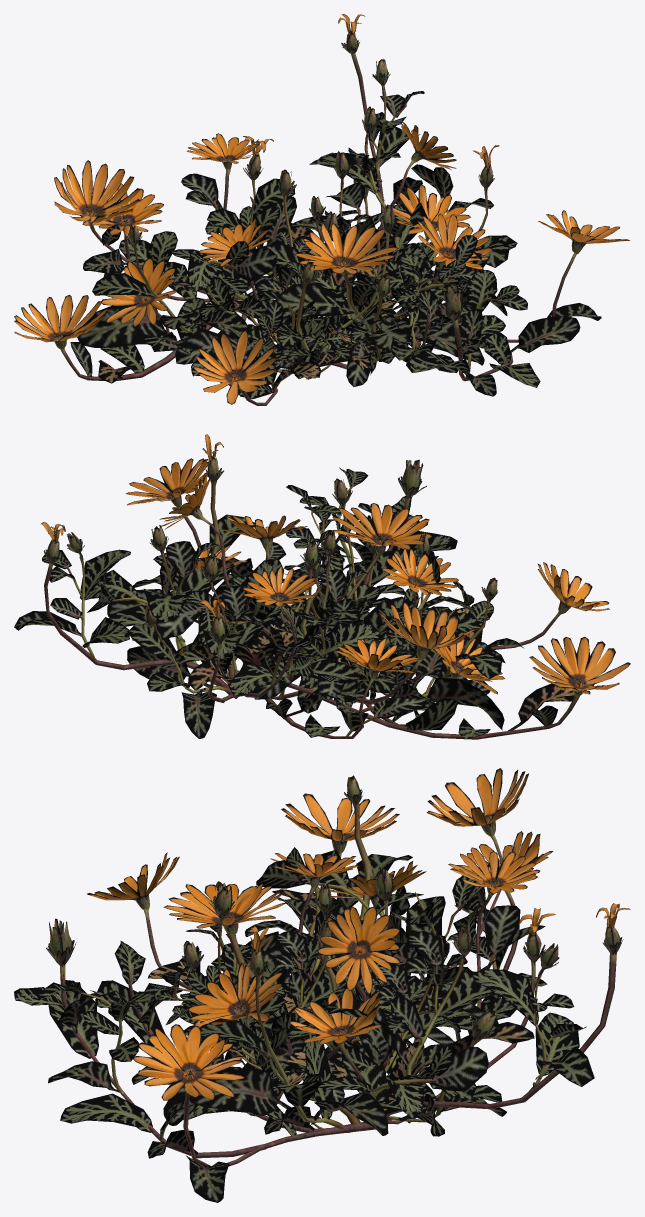
The model's file is flower_ursinia.glb.
3 views of the same model, one above another, from view 1: azimuth 30°, elevation 25°; view 2: azimuth 150°, elevation 25°; view 3: azimuth 270°, elevation 25° (orthographic). The views are drawn at different scales.
Visible parts, largest first — view 1: flower_ursinia_a_LOD0, flower_ursinia_b_LOD0, flower_ursinia_c_LOD0, flower_ursinia_d_LOD0, flower_ursinia_e_LOD0; view 2: flower_ursinia_a_LOD0, flower_ursinia_b_LOD0, flower_ursinia_c_LOD0, flower_ursinia_d_LOD0, flower_ursinia_e_LOD0; view 3: flower_ursinia_a_LOD0, flower_ursinia_b_LOD0, flower_ursinia_c_LOD0, flower_ursinia_d_LOD0, flower_ursinia_e_LOD0.
Boxes of the visible parts, <box> form: flower_ursinia_a_LOD0: <box>14,14,629,405</box>; flower_ursinia_b_LOD0: <box>54,136,479,372</box>; flower_ursinia_c_LOD0: <box>102,122,492,385</box>; flower_ursinia_d_LOD0: <box>175,169,446,383</box>; flower_ursinia_e_LOD0: <box>184,231,378,386</box>; flower_ursinia_a_LOD0: <box>14,434,630,739</box>; flower_ursinia_b_LOD0: <box>127,506,480,738</box>; flower_ursinia_c_LOD0: <box>156,473,505,726</box>; flower_ursinia_d_LOD0: <box>251,478,467,713</box>; flower_ursinia_e_LOD0: <box>268,607,418,711</box>; flower_ursinia_a_LOD0: <box>14,775,630,1202</box>; flower_ursinia_b_LOD0: <box>90,768,555,1136</box>; flower_ursinia_c_LOD0: <box>155,861,500,1093</box>; flower_ursinia_d_LOD0: <box>187,866,454,1096</box>; flower_ursinia_e_LOD0: <box>181,938,452,1101</box>.
Bounding box in the file's own units: 0.4254 × 0.1642 × 0.3433.
1 material, 1 textured.
